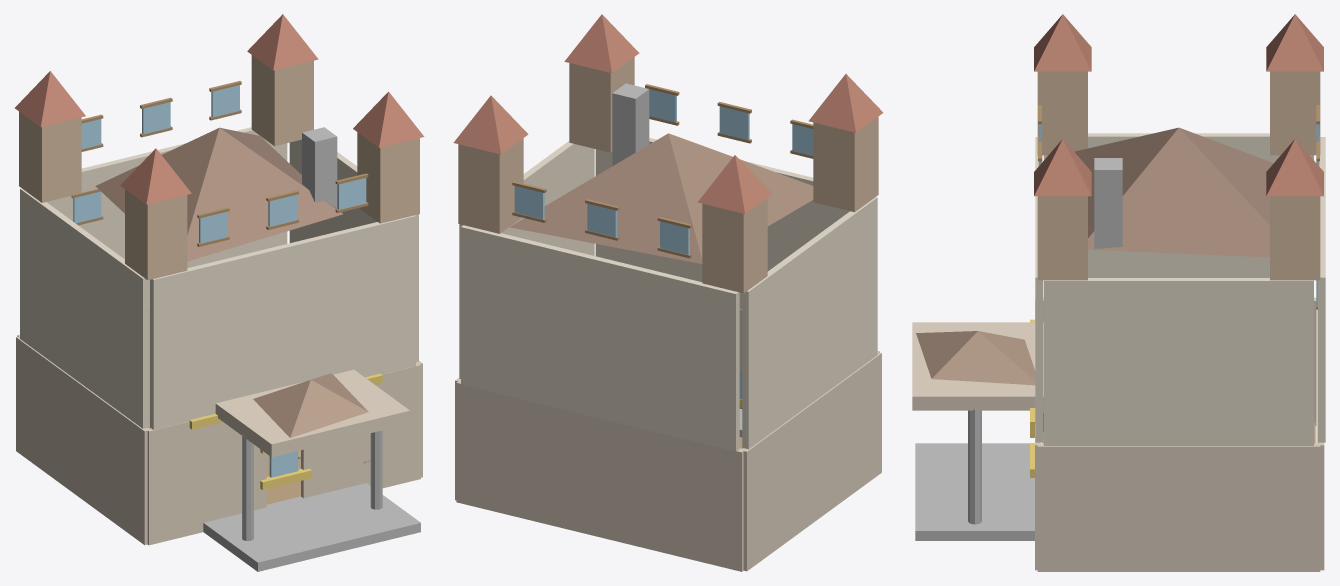
Rendered from house_palace.fbx.
3 views of the same model, side by side, from view 1: azimuth 30°, elevation 25°; view 2: azimuth 150°, elevation 25°; view 3: azimuth 270°, elevation 25° (orthographic). The views are drawn at different scales.
Parts seen in each view (by area): view 1: FrontU1, FrontU0, Left, Roof, Front_L, Porch, LeftU0, LeftU1, Front_R, Pediment, Tower.002, Tower (+24 smaller); view 2: Back, BackU0, BackU1, Left, Roof, LeftU0, LeftU1, Tower, Tower.002, Tower.003, Tower.001, RightU1 (+14 smaller); view 3: Right, RightU0, RightU1, Roof, Porch, Pediment, PorchRoof, LeftU0, Tower.001, Tower.003, Tower.002, Tower (+12 smaller).
Part boxes in pixels (x1,y1,x2,y2): FrontU1: [150, 215, 415, 352]; FrontU0: [150, 288, 415, 429]; Left: [16, 336, 150, 545]; Roof: [95, 127, 343, 261]; Front_L: [147, 421, 266, 545]; Porch: [203, 483, 420, 571]; LeftU0: [20, 261, 149, 428]; LeftU1: [20, 188, 149, 350]; Front_R: [301, 363, 420, 498]; Pediment: [215, 369, 410, 457]; Tower.002: [19, 111, 81, 202]; Tower: [125, 189, 187, 280]; Back: [456, 380, 745, 571]; BackU0: [461, 303, 739, 451]; BackU1: [461, 225, 739, 369]; Left: [743, 352, 881, 571]; Roof: [510, 133, 813, 263]; LeftU0: [742, 274, 877, 449]; LeftU1: [742, 197, 877, 367]; Tower: [813, 116, 878, 212]; Tower.002: [702, 198, 767, 293]; Tower.003: [458, 138, 523, 233]; Tower.001: [569, 57, 634, 152]; RightU1: [459, 141, 594, 297]; Right: [1037, 443, 1320, 571]; RightU0: [1044, 360, 1313, 445]; RightU1: [1044, 278, 1313, 360]; Roof: [1074, 127, 1273, 257]; Porch: [915, 443, 1034, 540]; Pediment: [912, 322, 1043, 410]; PorchRoof: [916, 331, 1035, 385]; LeftU0: [1088, 249, 1269, 277]; Tower.001: [1037, 196, 1087, 280]; Tower.003: [1270, 196, 1320, 280]; Tower.002: [1270, 71, 1320, 155]; Tower: [1037, 71, 1087, 155].
Bounding box in the file's own units: 11.25 × 14.8 × 13.18.
